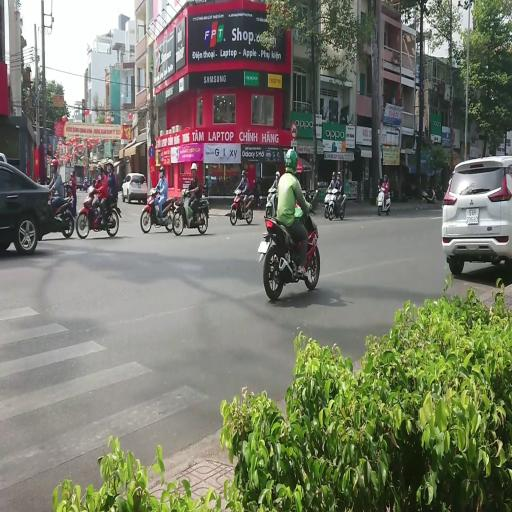bikes: (258, 198, 320, 300), (76, 186, 120, 238), (172, 187, 209, 235), (140, 187, 175, 233), (46, 185, 75, 237), (230, 188, 254, 225), (324, 187, 346, 220), (376, 182, 391, 215), (301, 188, 318, 214), (265, 186, 278, 218), (250, 178, 263, 208), (422, 187, 436, 204), (63, 181, 71, 197)
helmet: (285, 148, 297, 174), (296, 157, 303, 173), (96, 163, 104, 171), (107, 159, 114, 168), (88, 186, 94, 196), (51, 159, 58, 167), (159, 166, 165, 175), (46, 155, 52, 164), (191, 162, 197, 170), (96, 175, 102, 183), (150, 188, 156, 195), (275, 171, 280, 179), (332, 171, 336, 179), (241, 170, 246, 176), (54, 153, 59, 159), (337, 172, 341, 179), (378, 179, 382, 186), (295, 151, 299, 158), (383, 174, 387, 180), (100, 164, 104, 170), (381, 184, 385, 190), (379, 178, 382, 184), (84, 177, 87, 182), (70, 172, 73, 176), (73, 171, 76, 175)
